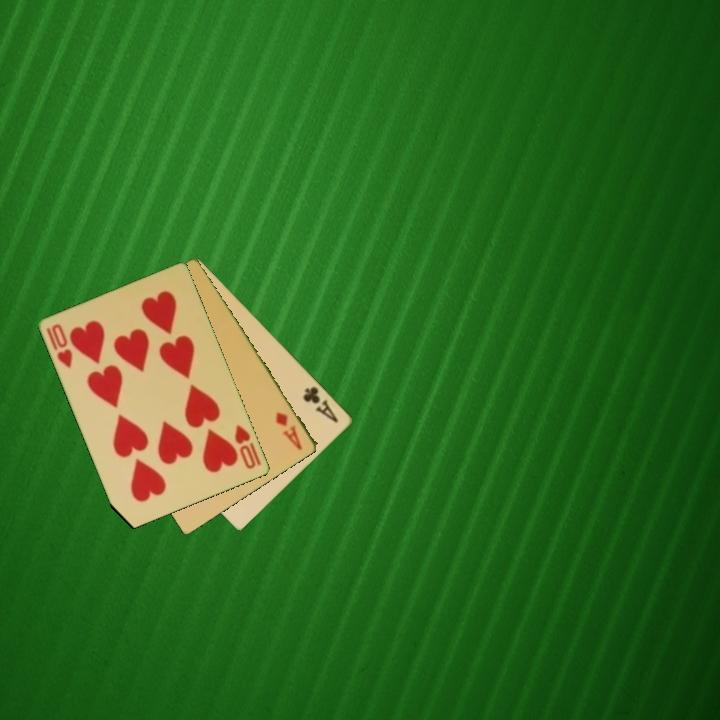10h: (43, 320, 76, 371), (231, 421, 259, 472)
Ac: (300, 383, 342, 426)
Ad: (272, 408, 305, 453)
